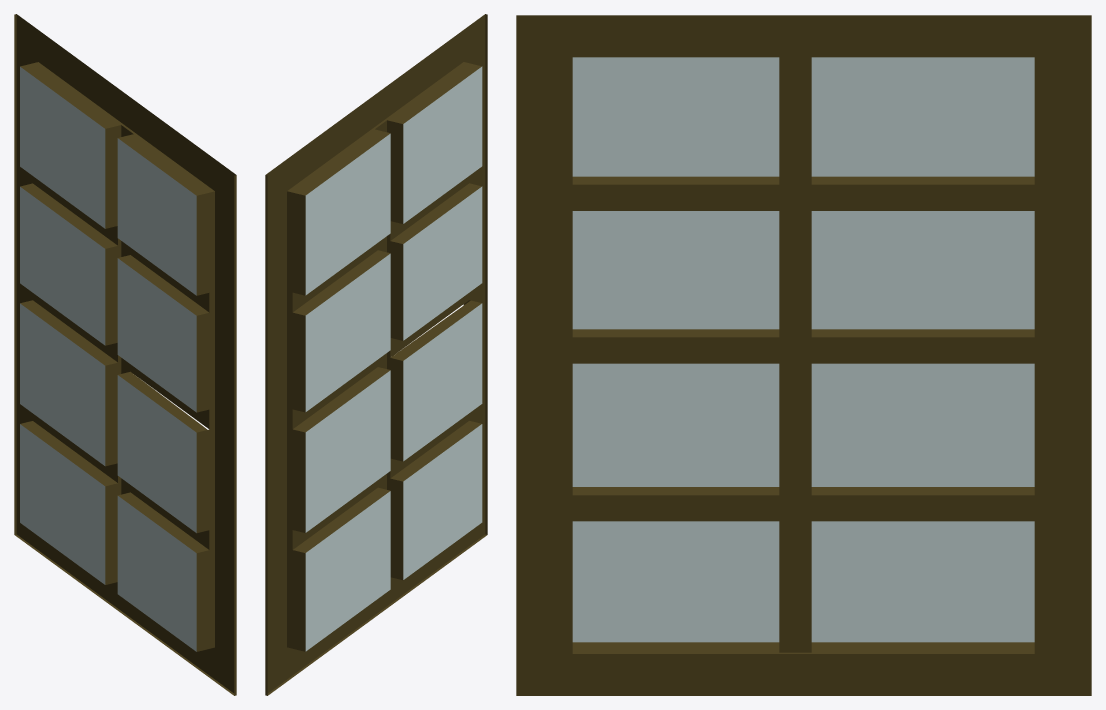
File: GB_Window4.fbx
3 renders of one model, left to right at view 1: azimuth 30°, elevation 25°; view 2: azimuth 150°, elevation 25°; view 3: azimuth 270°, elevation 25°, orthographic. The views are drawn at different scales.
Parts seen in each view (by area): view 1: pasted__polySurface7; view 2: pasted__polySurface7; view 3: pasted__polySurface7.
Part boxes in pixels (x1,y1,x2,y2): pasted__polySurface7: (14,14,236,695); pasted__polySurface7: (265,14,487,695); pasted__polySurface7: (516,15,1091,695).
Size of the model in its own units: 0.0622 by 1.68 by 1.29.
